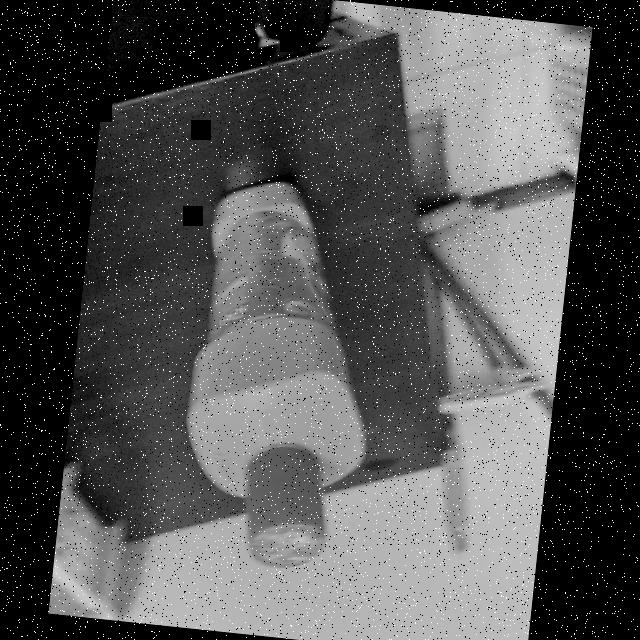chemical_plastic_bottle: (169, 168, 391, 578)
